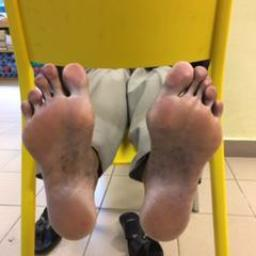Plantar View -Both Feet-: (6, 44, 232, 250)
